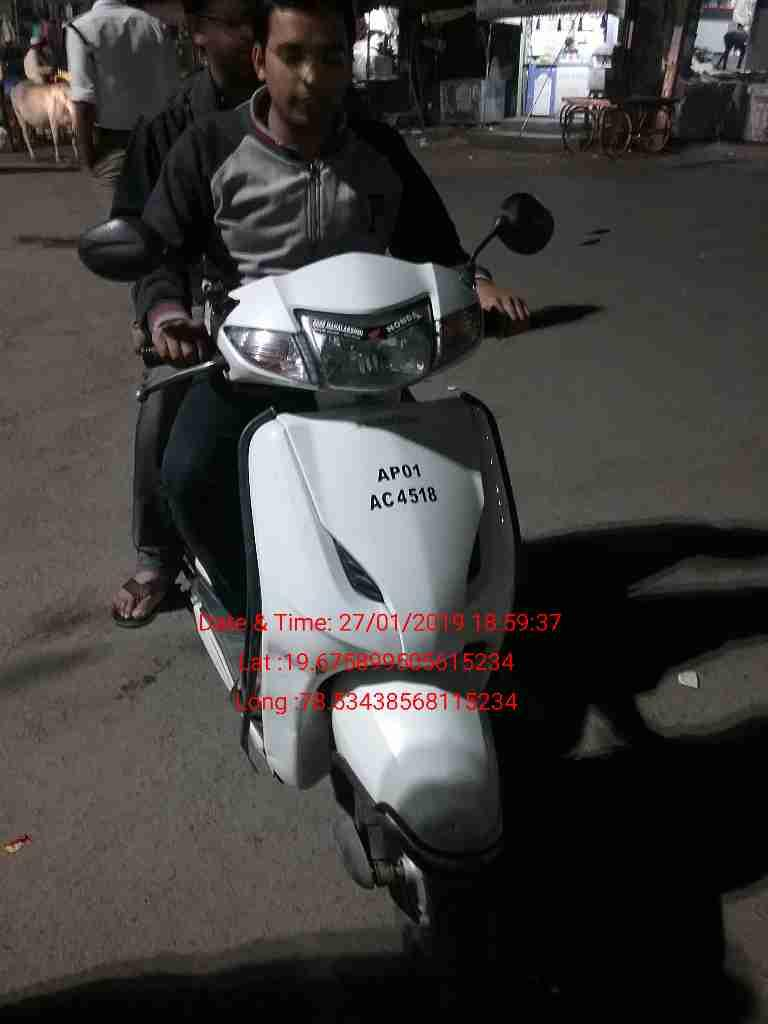plate: (350, 458, 457, 511)
